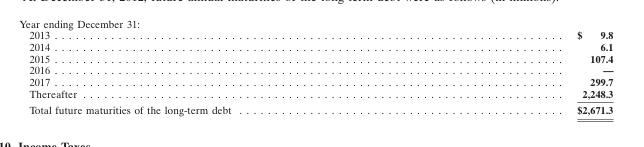table: (28, 28, 612, 116)
table column: (28, 28, 403, 116), (403, 28, 612, 116)
table row: (28, 101, 612, 116), (28, 87, 612, 101), (28, 28, 612, 40), (28, 40, 612, 52), (28, 63, 612, 75), (28, 75, 612, 87), (28, 52, 612, 63)
